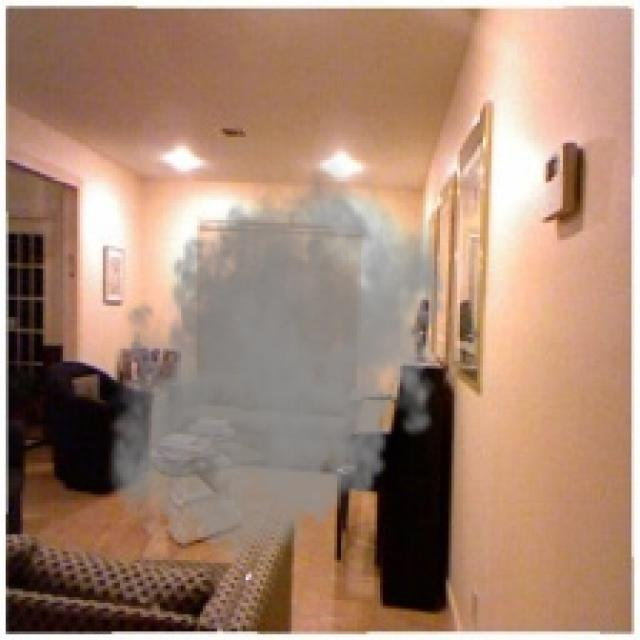smoke: (103, 149, 457, 574)
